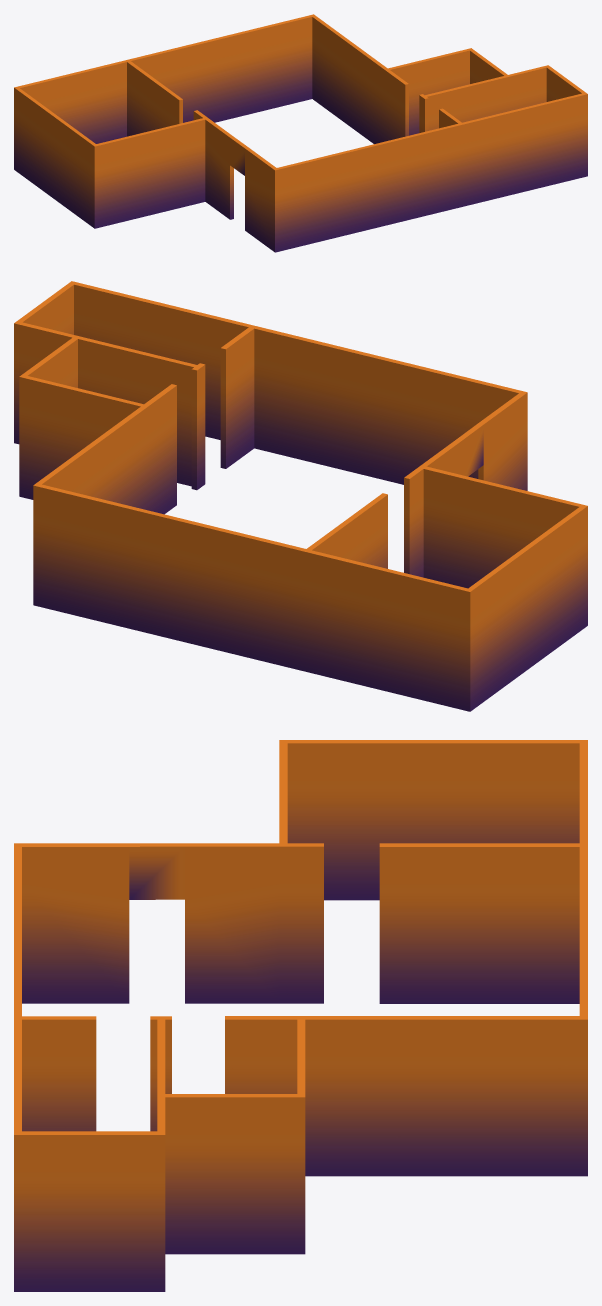
The model's file is Walls.FBX.
The picture shows the model from 3 angles, top to bottom: view 1: azimuth 30°, elevation 25°; view 2: azimuth 150°, elevation 25°; view 3: azimuth 270°, elevation 25°; orthographic projection. The views are drawn at different scales.
Visible parts, largest first — view 1: Walls; view 2: Walls; view 3: Walls.
Part boxes in pixels (x1=…): Walls: x1=14, y1=14, x2=587, y2=252; Walls: x1=14, y1=281, x2=587, y2=711; Walls: x1=14, y1=740, x2=587, y2=1291.
Size of the model in its own units: 920 by 171 by 565.
Materials: 1 (1 with a texture image).
